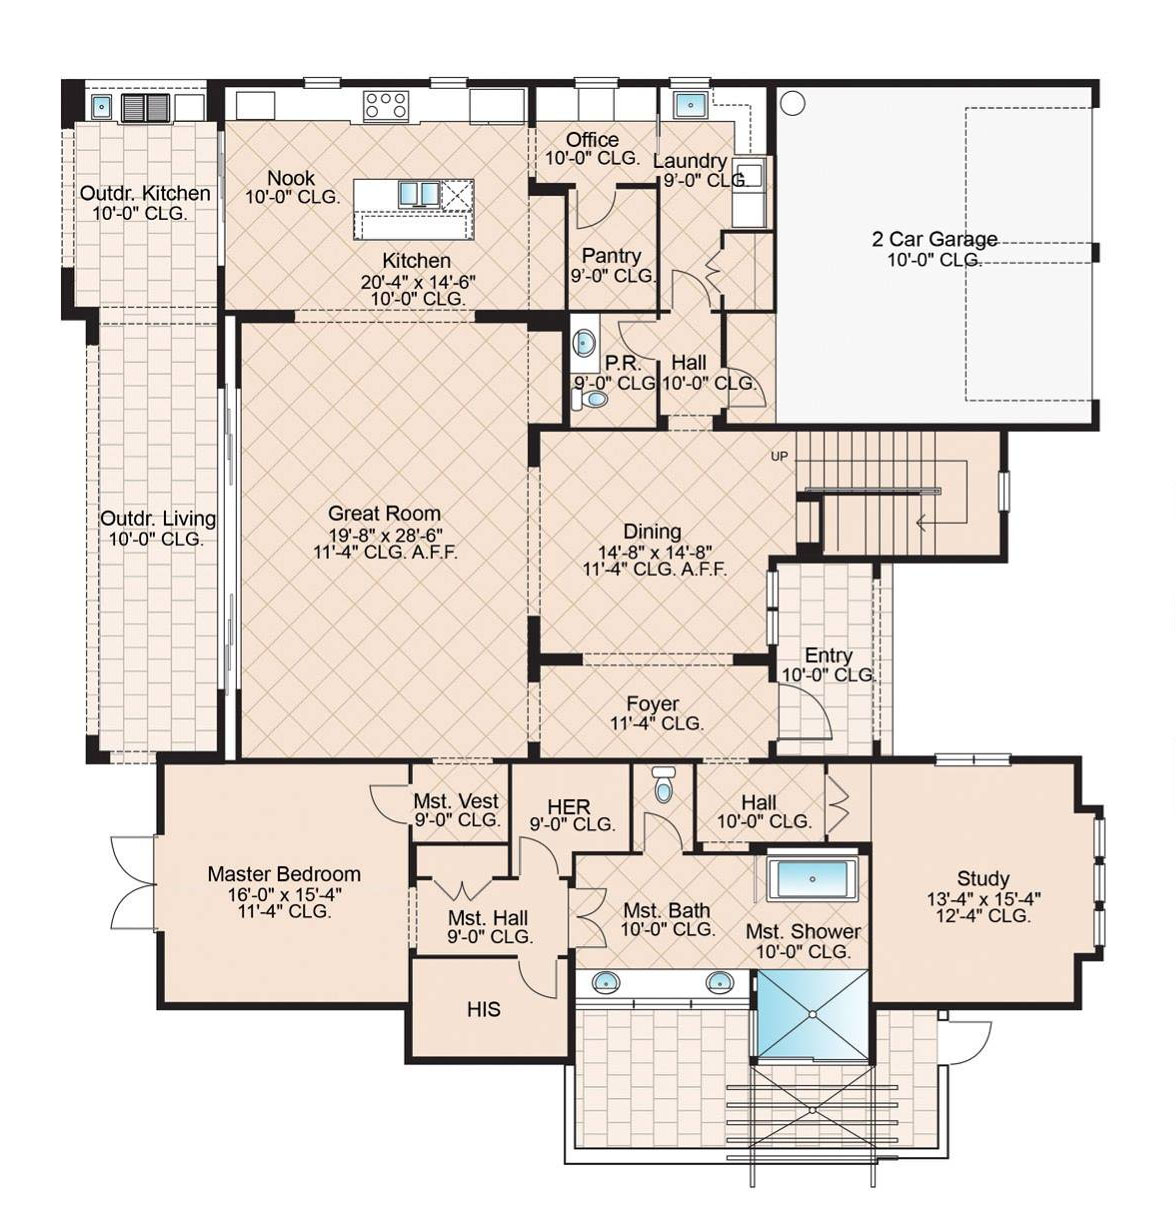door: (91, 830, 150, 950), (575, 882, 621, 961), (779, 682, 835, 746), (567, 189, 612, 240), (951, 1011, 996, 1062), (356, 777, 401, 828), (603, 316, 648, 367), (727, 361, 772, 412), (515, 959, 560, 1011), (436, 864, 490, 904), (511, 830, 559, 869), (824, 778, 859, 830), (668, 258, 706, 301), (636, 808, 681, 843)
window: (930, 750, 1016, 771), (991, 468, 1017, 515), (667, 72, 714, 95), (571, 74, 621, 95), (300, 74, 345, 95), (426, 74, 471, 95), (762, 566, 783, 611), (1090, 861, 1110, 906), (1091, 816, 1111, 861), (1091, 907, 1111, 952), (765, 607, 781, 647)
